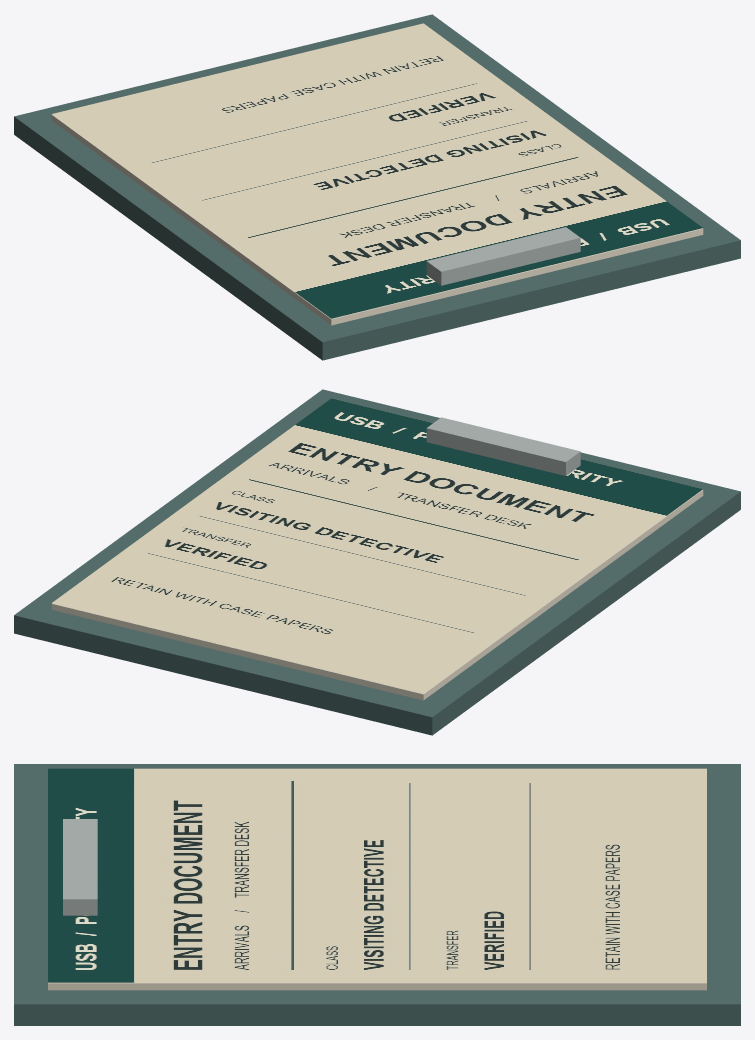
The model's file is port-entry-document.glb.
3 renders of one model, top to bottom at view 1: azimuth 30°, elevation 25°; view 2: azimuth 150°, elevation 25°; view 3: azimuth 270°, elevation 25°, orthographic. The views are drawn at different scales.
Visible parts, largest first — view 1: Stamped entry document, Document board, Paper edge, Spring clip; view 2: Stamped entry document, Document board, Paper edge, Spring clip; view 3: Stamped entry document, Document board, Paper edge, Spring clip.
Part boxes in pixels (bbox=[...]): Stamped entry document: bbox=[52, 23, 702, 318]; Document board: bbox=[14, 14, 740, 360]; Paper edge: bbox=[51, 114, 703, 325]; Spring clip: bbox=[426, 227, 580, 285]; Stamped entry document: bbox=[52, 398, 702, 693]; Document board: bbox=[14, 389, 740, 735]; Paper edge: bbox=[51, 489, 703, 700]; Spring clip: bbox=[426, 417, 580, 475]; Stamped entry document: bbox=[48, 768, 706, 982]; Document board: bbox=[14, 764, 740, 1025]; Paper edge: bbox=[48, 982, 706, 990]; Spring clip: bbox=[63, 819, 97, 915].
Size of the model in its own units: 0.36 by 0.0325 by 0.46.
Materials: 4 (1 with a texture image).
